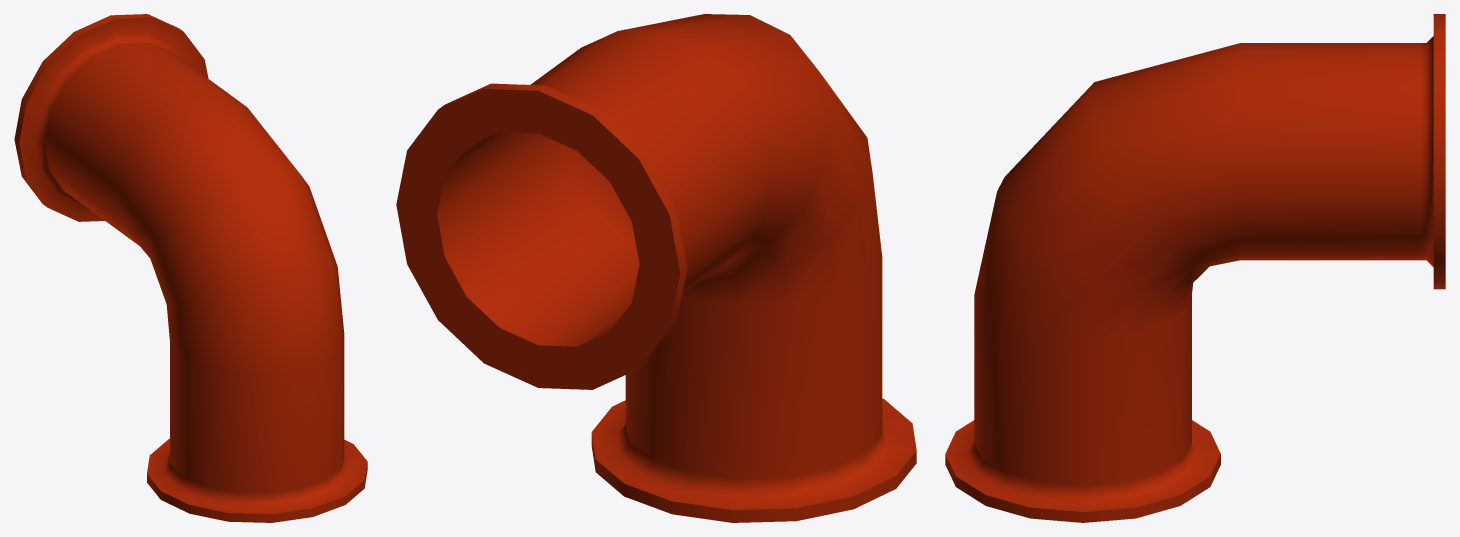
The model's file is sPipeC90_13.FBX.
The picture shows the model from 3 angles, left to right: view 1: azimuth 30°, elevation 25°; view 2: azimuth 150°, elevation 25°; view 3: azimuth 270°, elevation 25°; orthographic projection. The views are drawn at different scales.
Visible parts, largest first — view 1: Pipe_up1_013_Low003; view 2: Pipe_up1_013_Low003; view 3: Pipe_up1_013_Low003.
Boxes of the visible parts, bbox=[...] form: Pipe_up1_013_Low003: bbox=[14, 14, 367, 522]; Pipe_up1_013_Low003: bbox=[396, 14, 916, 522]; Pipe_up1_013_Low003: bbox=[945, 14, 1445, 522].
Bounding box in the file's own units: 19 × 33.33 × 34.5.
